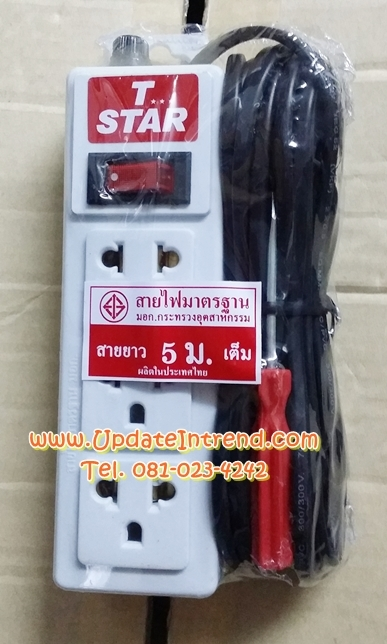Three_eye_plug: (44, 29, 268, 600)
